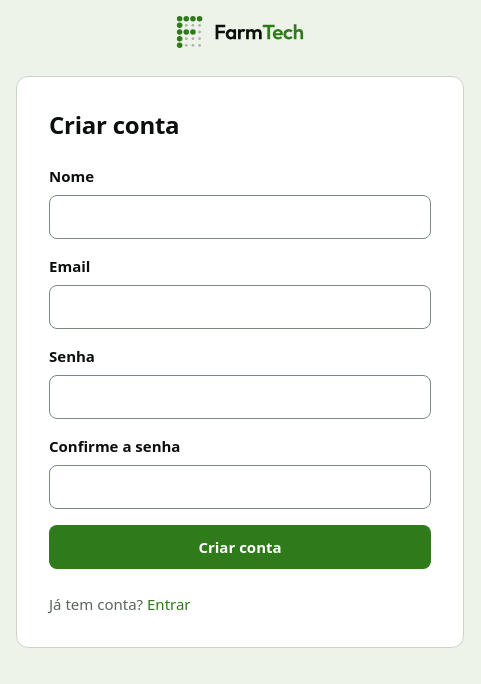
Test: sign-up (AC-0006-05) › validates the fields in pt-BR, linking each error to its input
Type "1234567" into the password field labelled "Senha" at (240, 397), box [49,375,431,419]
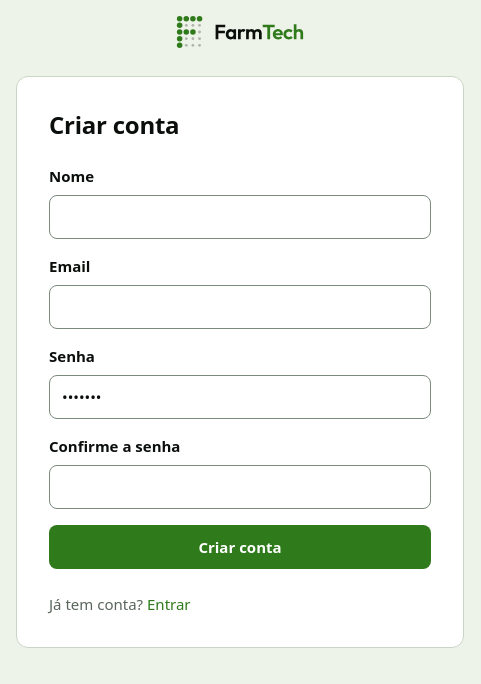
Type "outra" into the password field labelled "Confirme a senha" at (240, 487), box [49,465,431,509]
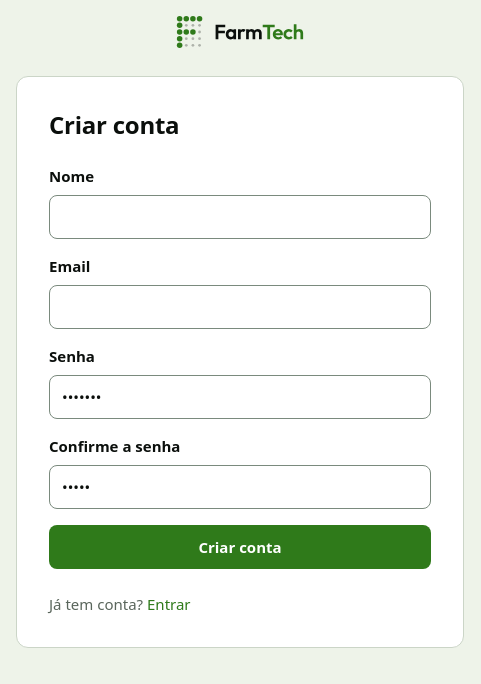
Click the button "Criar conta" at (240, 547), box [49,525,431,569]
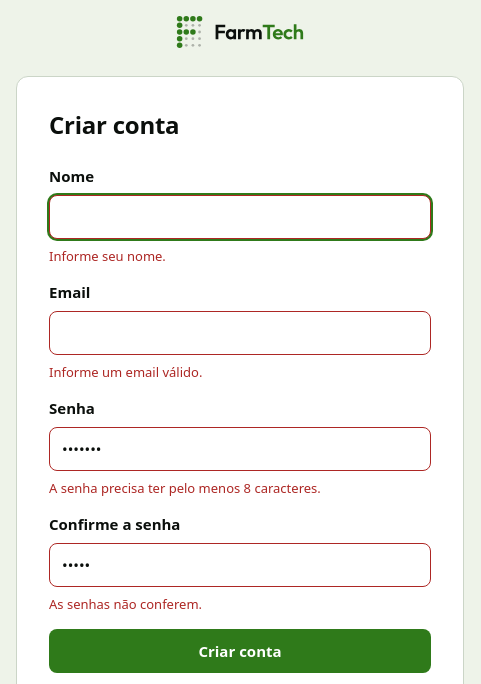
Check: the text "Informe seu nome." is shown, box [49,247,166,265]
Check: the text "Informe um email válido." is shown, box [49,363,202,381]
Check: the text "A senha precisa ter pelo menos 8 caracteres." is shown, box [49,479,321,497]
